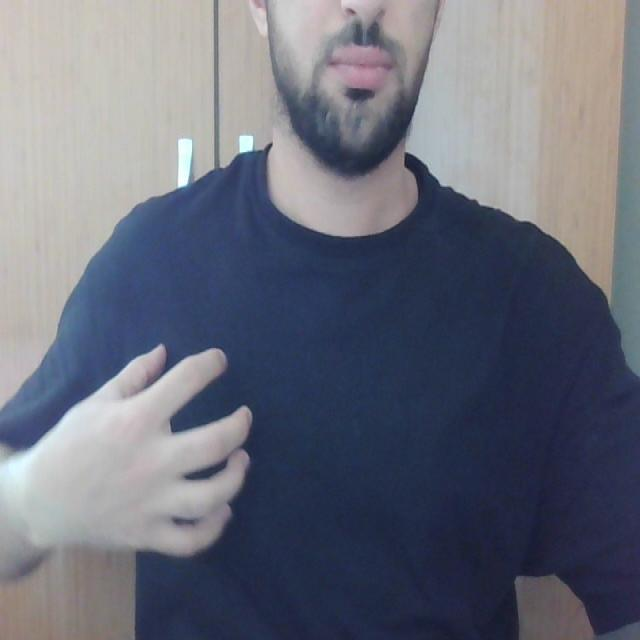Anne: (59, 325, 273, 567)
